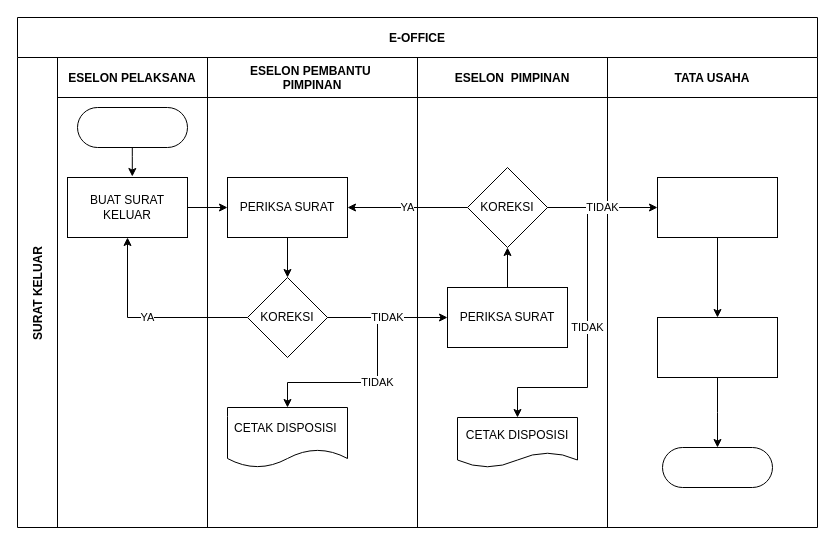
This 835x545 diagram has some shape labels left out. Here are the shapes that lost their labels. From the top down, the centre of each, then its label:
(132,127): MULAI
(717,207): DISTRIBUSI SURAT
(717,347): ASRIPKAN
(717,467): SELESAI
